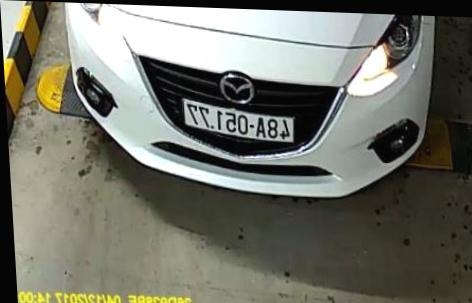License_Plate: (178, 98, 301, 150)
